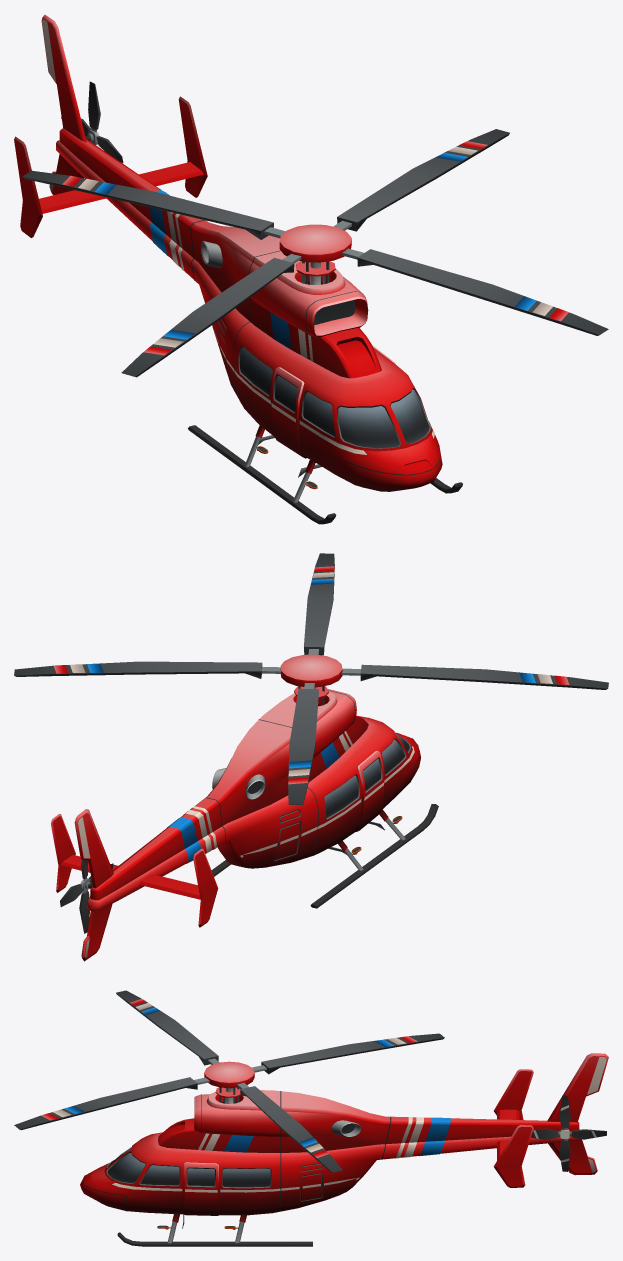
The model's file is News_Helicopter_1A.fbx.
3 views of the same model, one above another, from view 1: azimuth 30°, elevation 25°; view 2: azimuth 150°, elevation 25°; view 3: azimuth 270°, elevation 25° (orthographic). The views are drawn at different scales.
Parts seen in each view (by area): view 1: News_Helicopter_1A, Main_Rotor_1A, Tail_Rotor_1A; view 2: News_Helicopter_1A, Main_Rotor_1A, Tail_Rotor_1A; view 3: News_Helicopter_1A, Main_Rotor_1A, Tail_Rotor_1A.
Boxes of the visible parts, bbox=[...] form: News_Helicopter_1A: bbox=[14, 15, 462, 524]; Main_Rotor_1A: bbox=[22, 129, 608, 377]; Tail_Rotor_1A: bbox=[61, 81, 123, 163]; News_Helicopter_1A: bbox=[51, 689, 438, 961]; Main_Rotor_1A: bbox=[14, 553, 608, 804]; Tail_Rotor_1A: bbox=[60, 860, 113, 933]; News_Helicopter_1A: bbox=[80, 1053, 608, 1246]; Main_Rotor_1A: bbox=[14, 990, 444, 1172]; Tail_Rotor_1A: bbox=[531, 1095, 606, 1171].
Bounding box in the file's own units: 946 × 414 × 1306.
